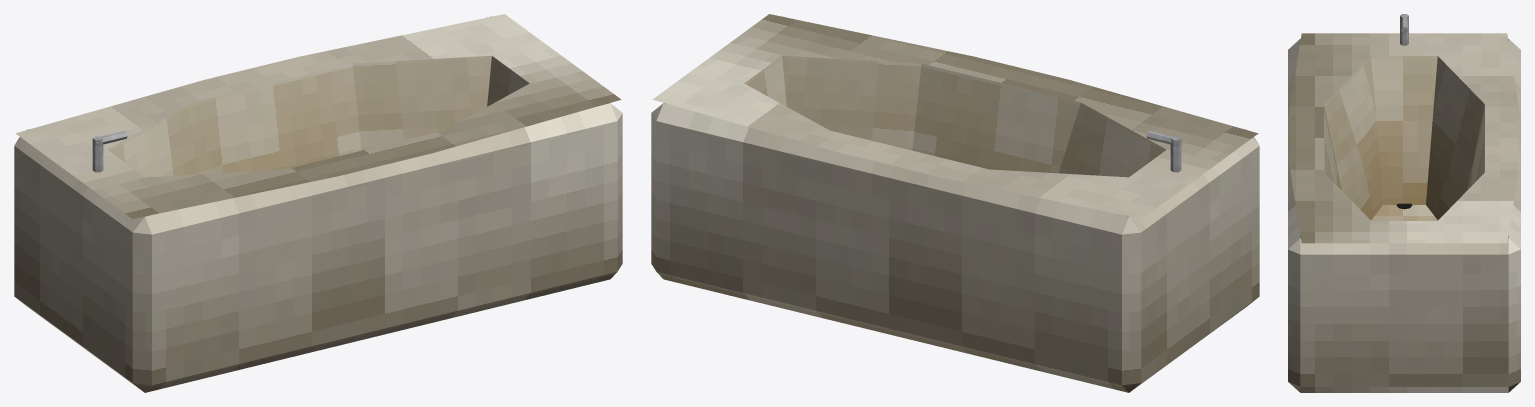
File: Bathtub.glb
The picture shows the model from 3 angles, left to right: view 1: azimuth 30°, elevation 25°; view 2: azimuth 150°, elevation 25°; view 3: azimuth 270°, elevation 25°; orthographic projection. The views are drawn at different scales.
Parts seen in each view (by area): view 1: Bathtub; view 2: Bathtub; view 3: Bathtub.
Boxes of the visible parts, x1,y1,x2,y2 form: Bathtub: (14,14,622,392); Bathtub: (651,14,1259,392); Bathtub: (1288,14,1520,392).
Size of the model in its own units: 1.6 by 0.6504 by 0.75.
Materials: 1 (1 with a texture image).
